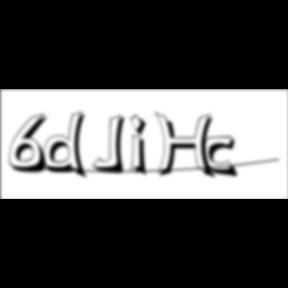6: (9, 112, 54, 176)
H: (155, 112, 221, 182)
J: (92, 114, 132, 176)
c: (203, 136, 243, 180)
d: (43, 110, 93, 182)
i: (130, 112, 154, 180)
